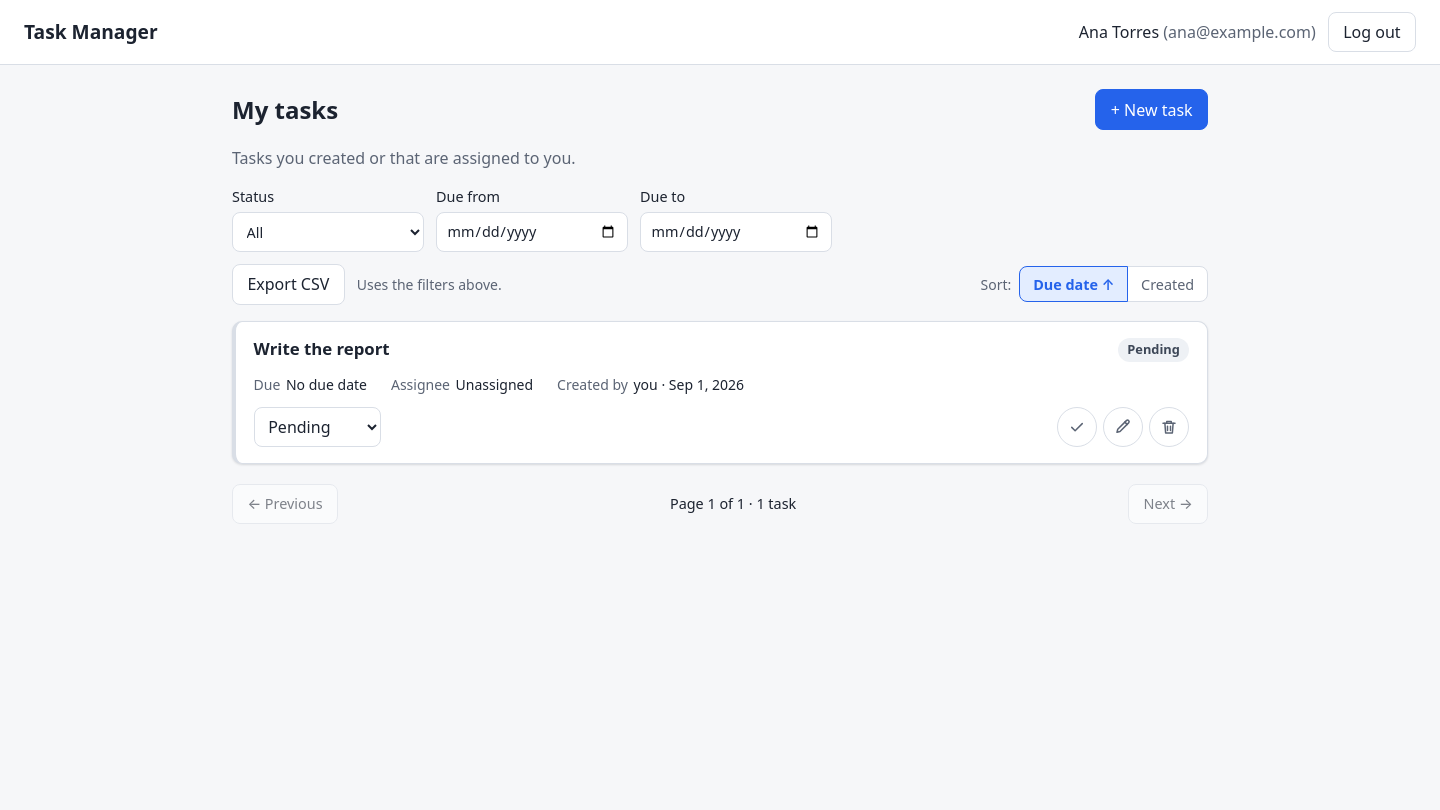
notifications › confirms saved changes and deletions
Click the button named "Edit": (1123,427) [1103,407,1143,447]
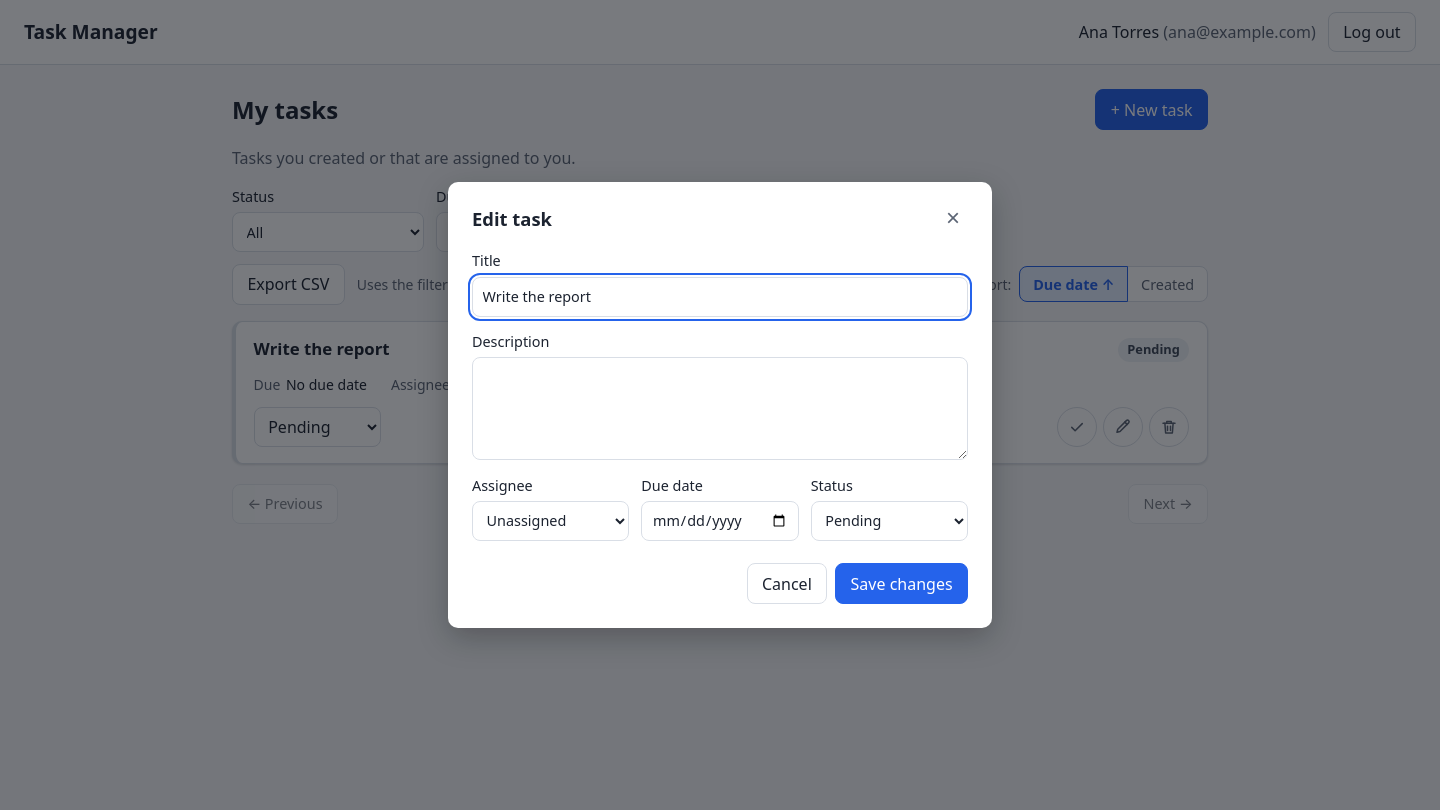
Replace the text in the field labelled "Title" with "Renamed": (720,297) [472,277,968,317]
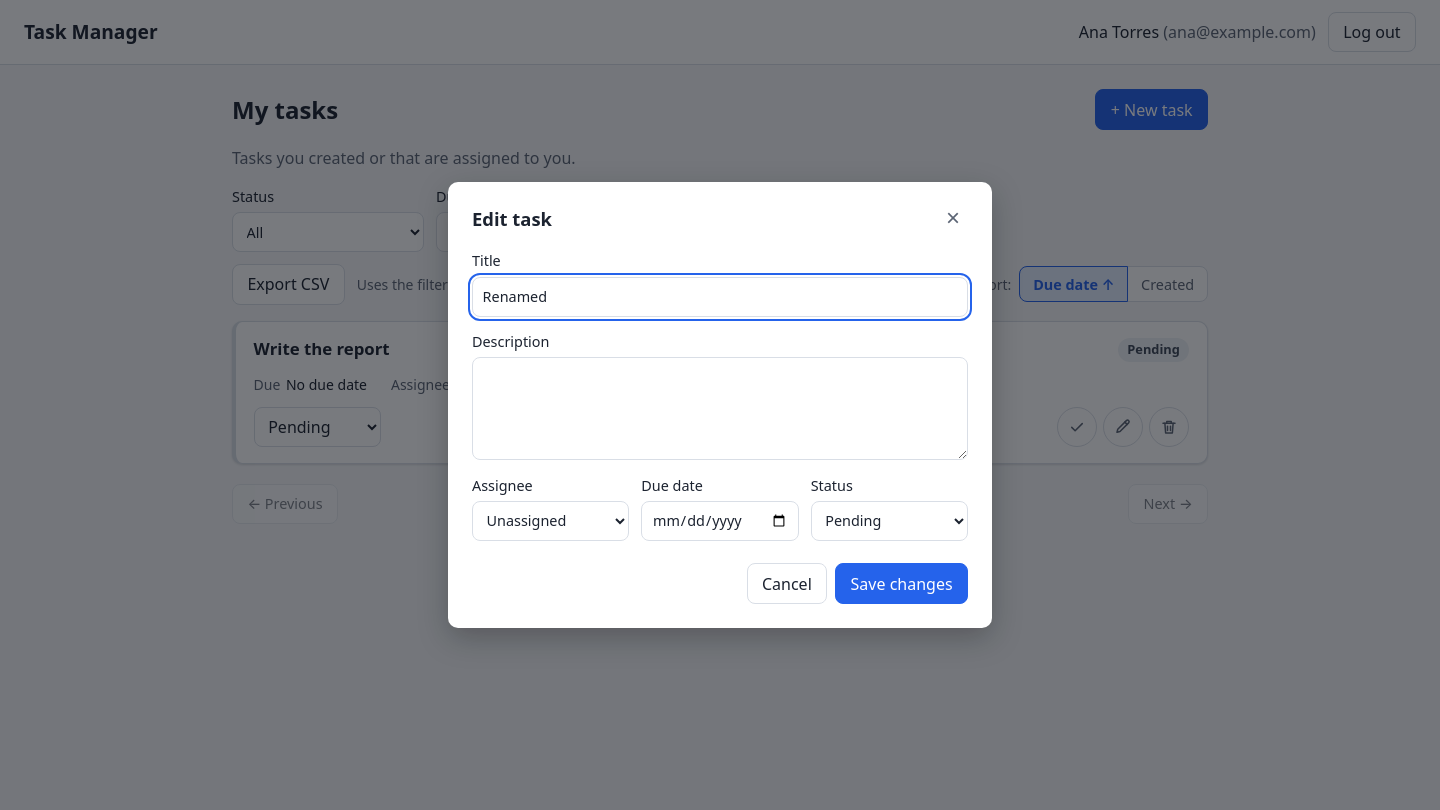
Click the button "Save changes": (902,584) [835,563,968,604]
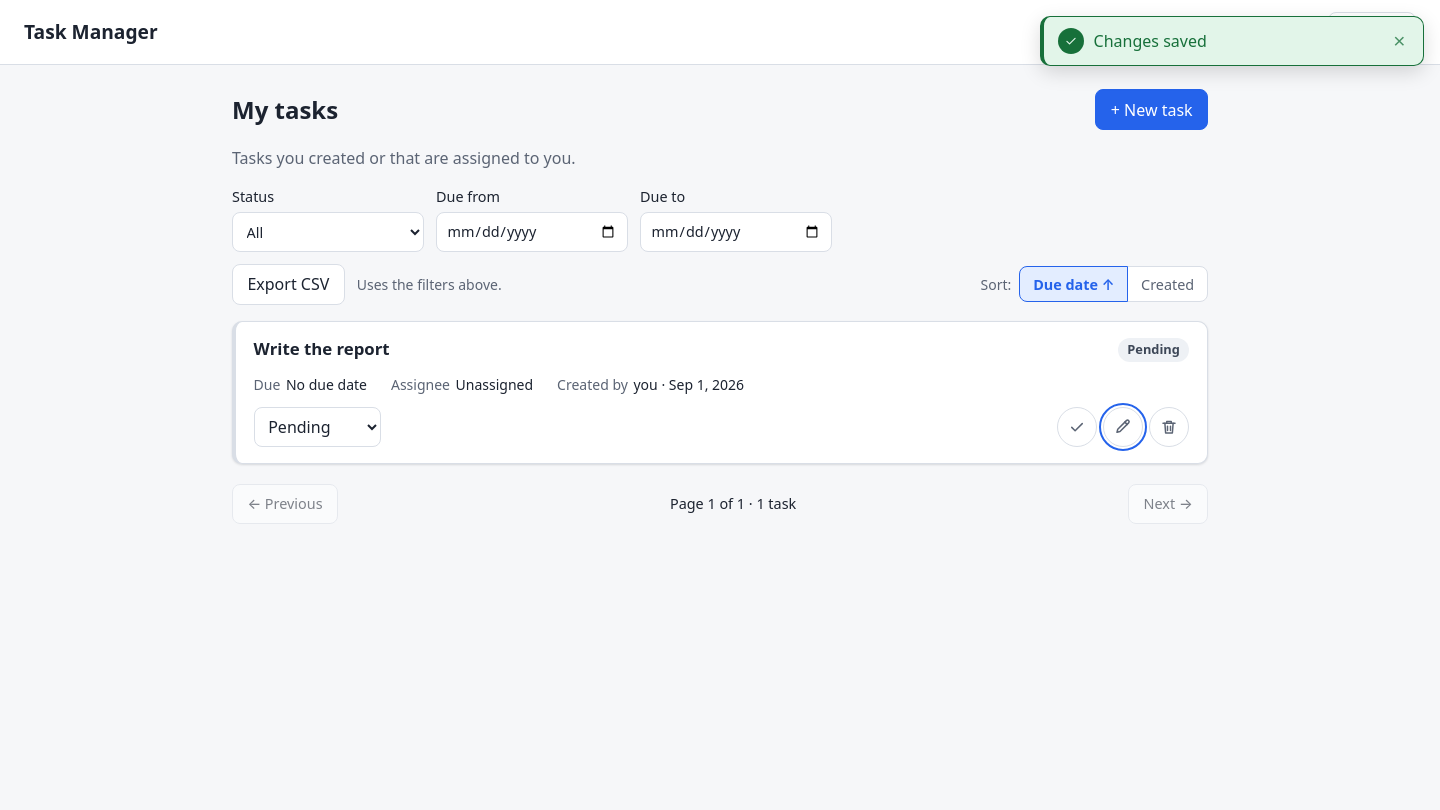
Now the text "Changes saved" is shown, box [1094,30,1207,52]
Click the button named "Delete": (1169,427) [1149,407,1189,447]
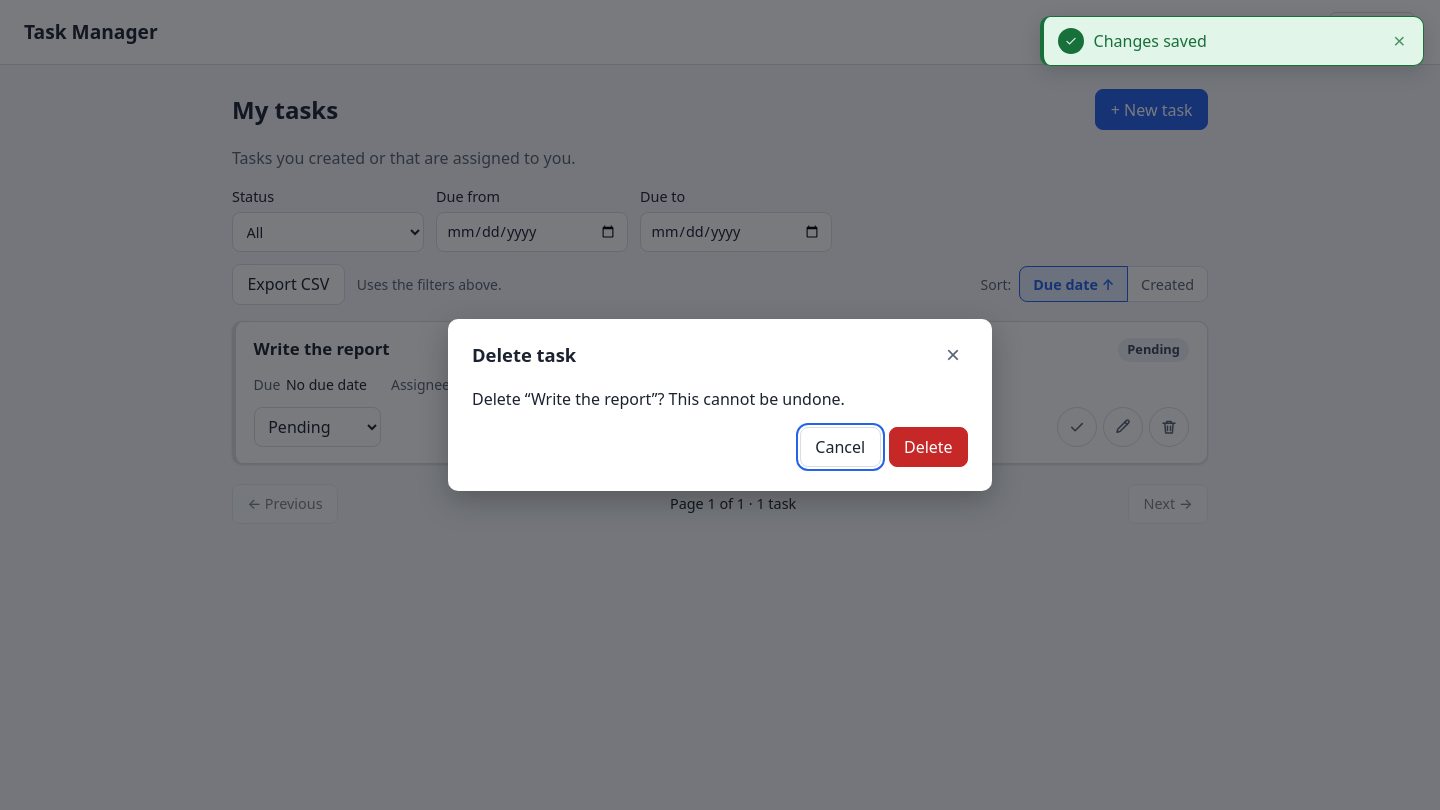
Click the button "Delete": (928,447) [889,427,968,467]
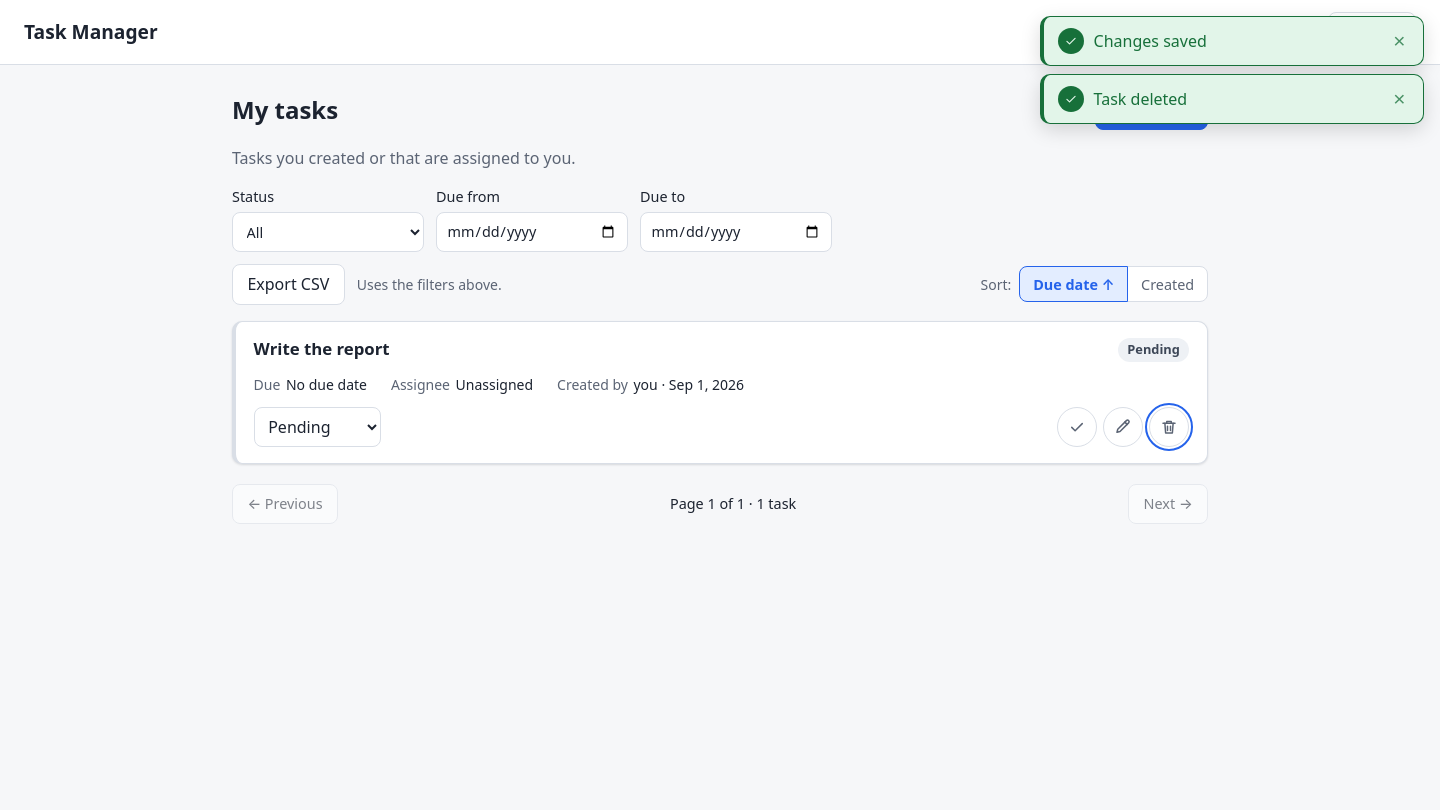
Now the text "Task deleted" is shown, box [1094,88,1187,110]
